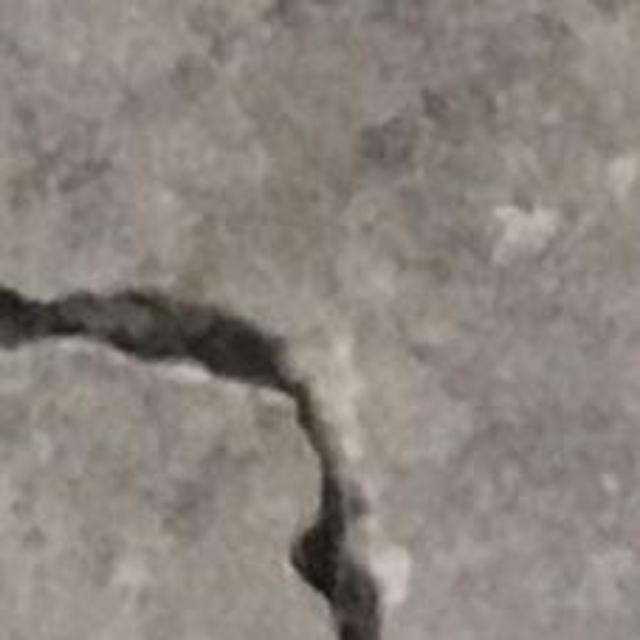crack: (0, 285, 380, 639)
